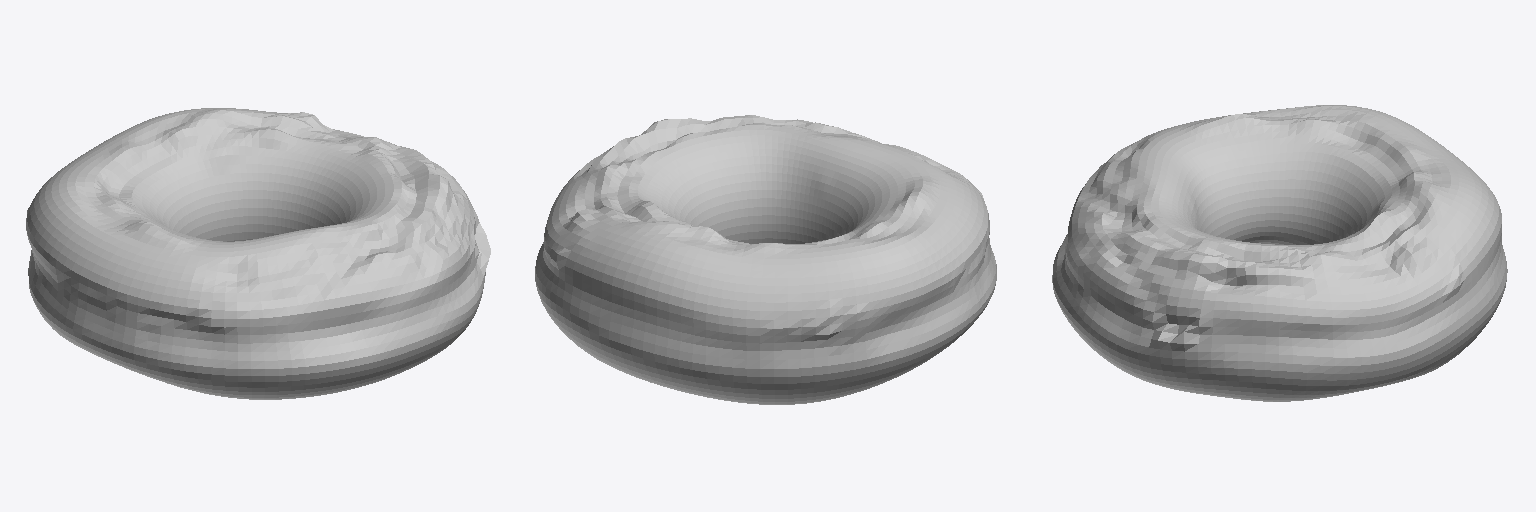
File: nut.obj
3 renders of one model, left to right at view 1: azimuth 30°, elevation 25°; view 2: azimuth 150°, elevation 25°; view 3: azimuth 270°, elevation 25°, orthographic.
Parts seen in each view (by area): view 1: donut_Torus; view 2: donut_Torus; view 3: donut_Torus.
Part boxes in pixels (left/top/right/bottom): donut_Torus: left=26, top=108, right=490, bottom=399; donut_Torus: left=535, top=115, right=996, bottom=404; donut_Torus: left=1052, top=105, right=1507, bottom=401.
Bounding box in the file's own units: 0.1461 × 0.0569 × 0.1452.